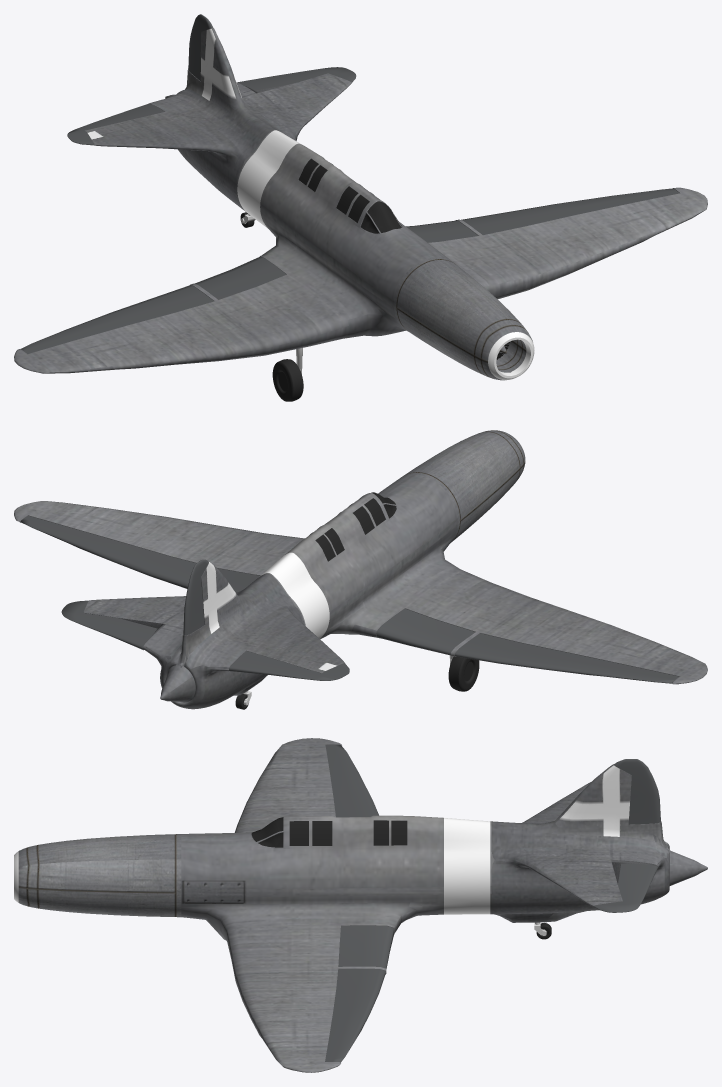
The model's file is Campani_sketfab.fbx.
3 views of the same model, one above another, from view 1: azimuth 30°, elevation 25°; view 2: azimuth 150°, elevation 25°; view 3: azimuth 270°, elevation 25° (orthographic).
Parts seen in each view (by area): view 1: Body, Flaps, roda_front; view 2: Body, Flaps, roda_front; view 3: Body, Flaps.
Boxes of the visible parts, bbox=[...] form: Body: bbox=[14, 28, 707, 380]; Flaps: bbox=[21, 14, 679, 354]; roda_front: bbox=[272, 359, 303, 401]; Body: bbox=[14, 430, 707, 709]; Flaps: bbox=[20, 515, 679, 683]; roda_front: bbox=[448, 656, 479, 691]; Body: bbox=[14, 738, 707, 1072]; Flaps: bbox=[325, 744, 661, 1062].
Size of the model in its own units: 796 by 259 by 694.
Materials: 6 (1 with a texture image).
